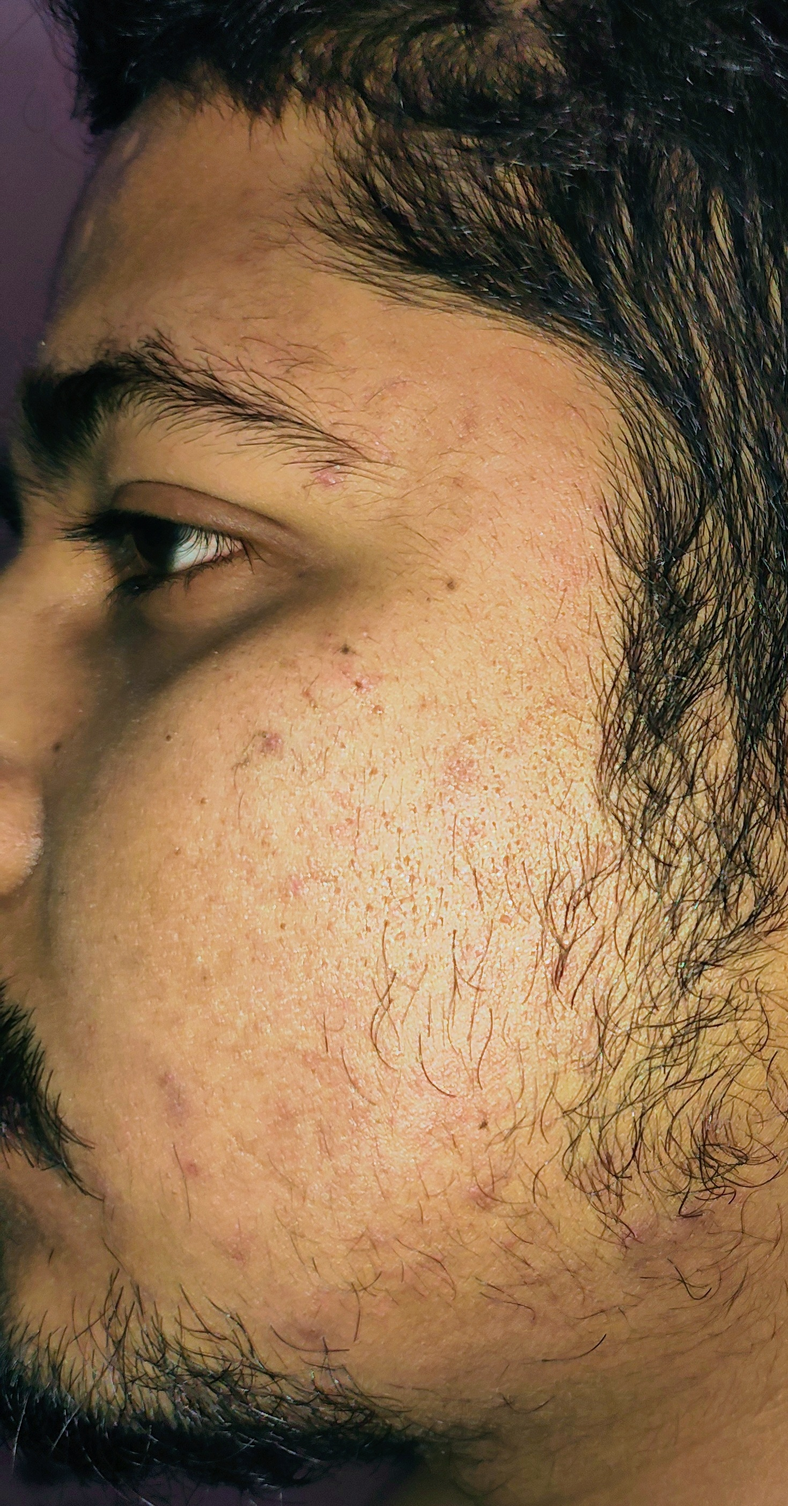papule: (428, 740, 519, 820), (159, 1160, 251, 1213)
